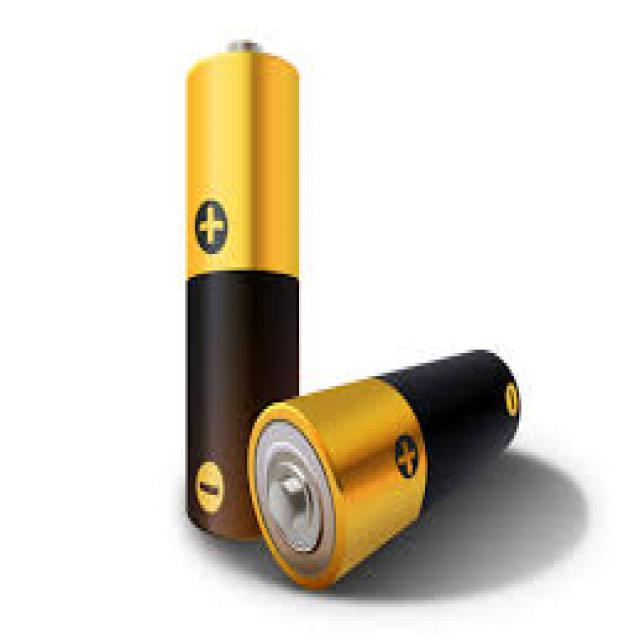non-organic waste: (247, 334, 521, 590), (181, 41, 303, 540)
